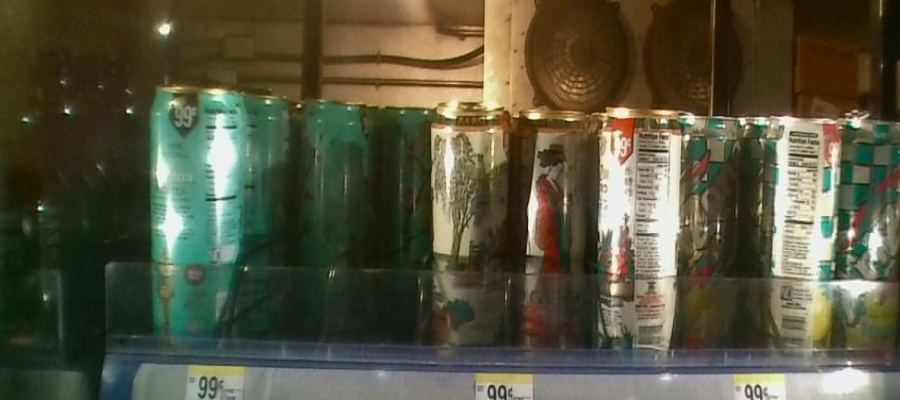bottle: (145, 77, 245, 362), (594, 100, 680, 366), (755, 109, 841, 369), (431, 95, 512, 363), (298, 82, 371, 350), (516, 105, 591, 361), (680, 106, 745, 360), (844, 102, 900, 364), (375, 88, 428, 357)
